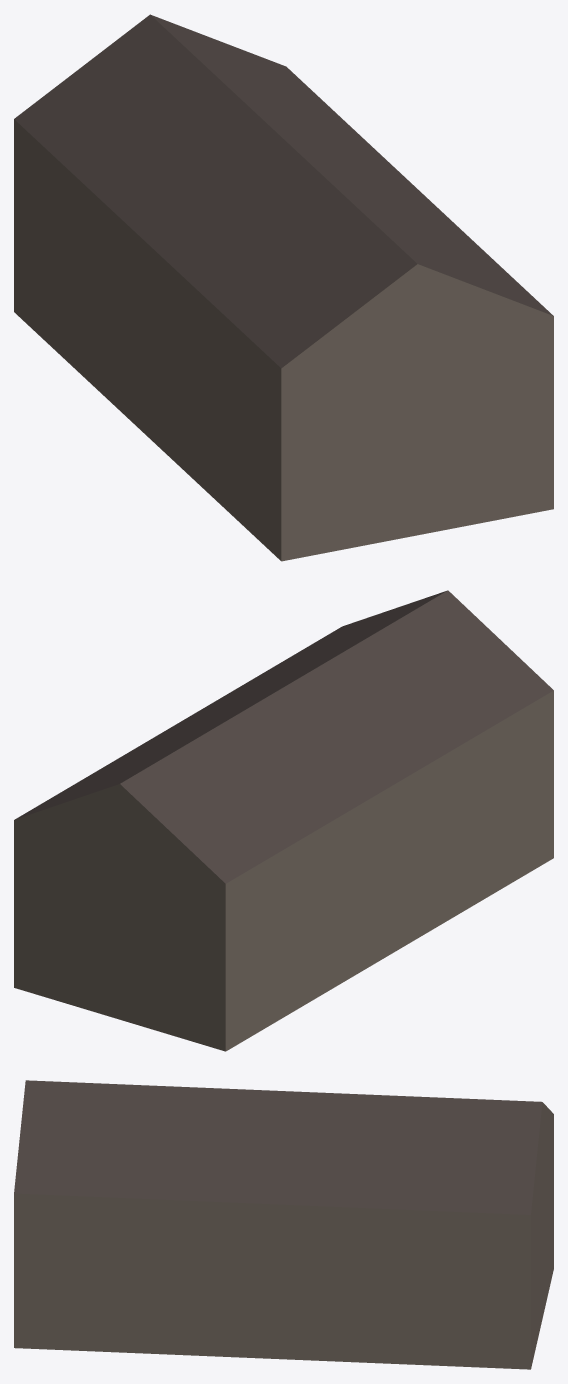
3 views of the same model, one above another, from view 1: azimuth 30°, elevation 25°; view 2: azimuth 150°, elevation 25°; view 3: azimuth 270°, elevation 25° (orthographic). The views are drawn at different scales.
Visible parts, largest first — view 1: HP-w858824302; view 2: HP-w858824302; view 3: HP-w858824302.
Boxes of the visible parts, <box> form: HP-w858824302: <box>14,14,553,561</box>; HP-w858824302: <box>14,590,553,1051</box>; HP-w858824302: <box>14,1080,553,1369</box>.
Bounding box in the file's own units: 10.19 × 8.43 × 18.99.
